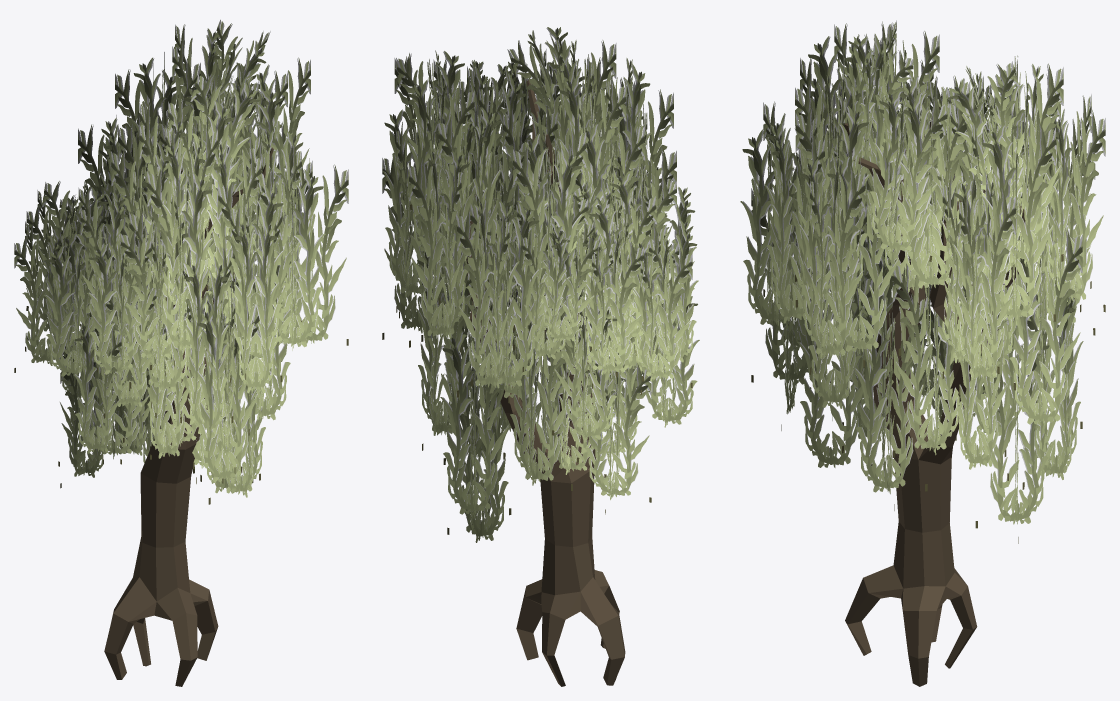
Rendered from polytreewillow1.glb.
3 renders of one model, left to right at view 1: azimuth 30°, elevation 25°; view 2: azimuth 150°, elevation 25°; view 3: azimuth 270°, elevation 25°, orthographic. The views are drawn at different scales.
Visible parts, largest first — view 1: PolyTreeWillow1; view 2: PolyTreeWillow1; view 3: PolyTreeWillow1.
Part boxes in pixels (x1,y1,x2,y2): PolyTreeWillow1: [14, 19, 348, 686]; PolyTreeWillow1: [382, 27, 699, 686]; PolyTreeWillow1: [740, 20, 1105, 686].
Size of the model in its own units: 3.36 by 6.68 by 3.36.
3 materials, 3 textured.
